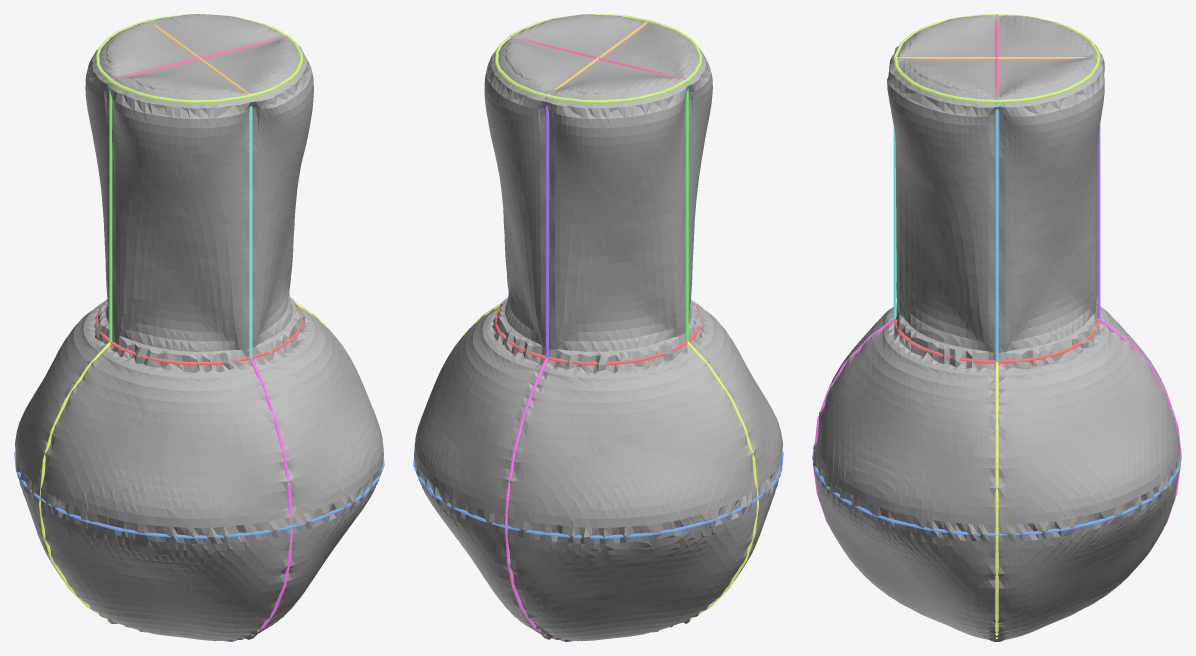
Rendered from flowrep_spherecylinder.gltf.
The picture shows the model from 3 angles, left to right: view 1: azimuth 30°, elevation 25°; view 2: azimuth 150°, elevation 25°; view 3: azimuth 270°, elevation 25°; orthographic projection.
Size of the model in its own units: 0.4563 by 0.7802 by 0.4564.
